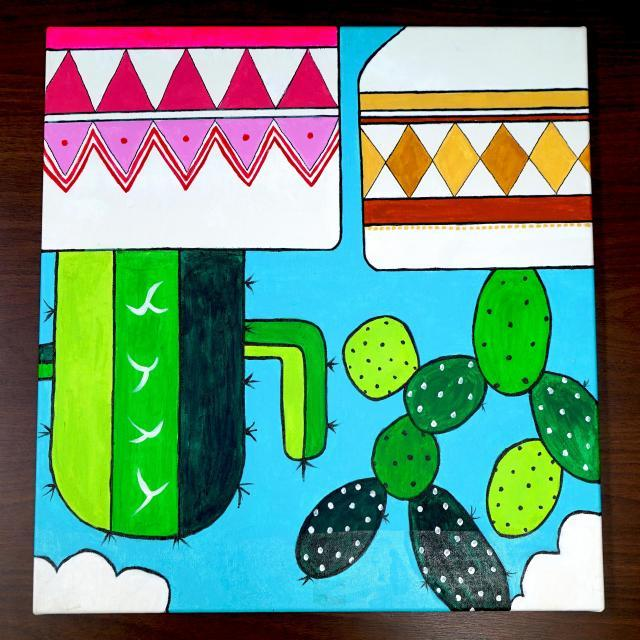painting: (34, 26, 602, 612)
